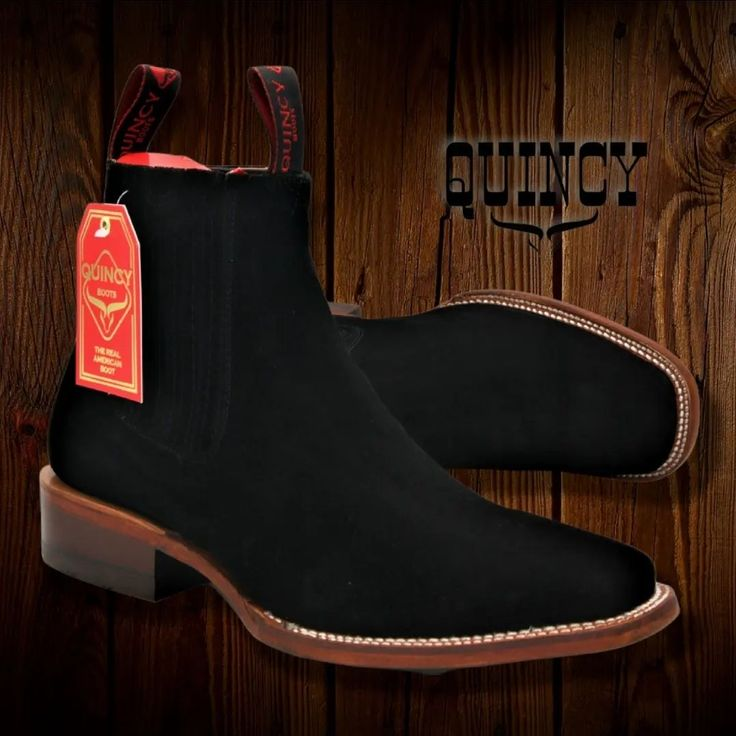gamuza: (49, 161, 682, 638)
